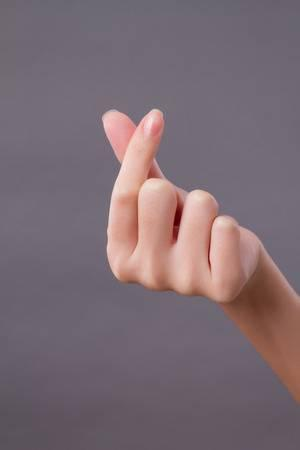heart gesture: (99, 104, 167, 176)
